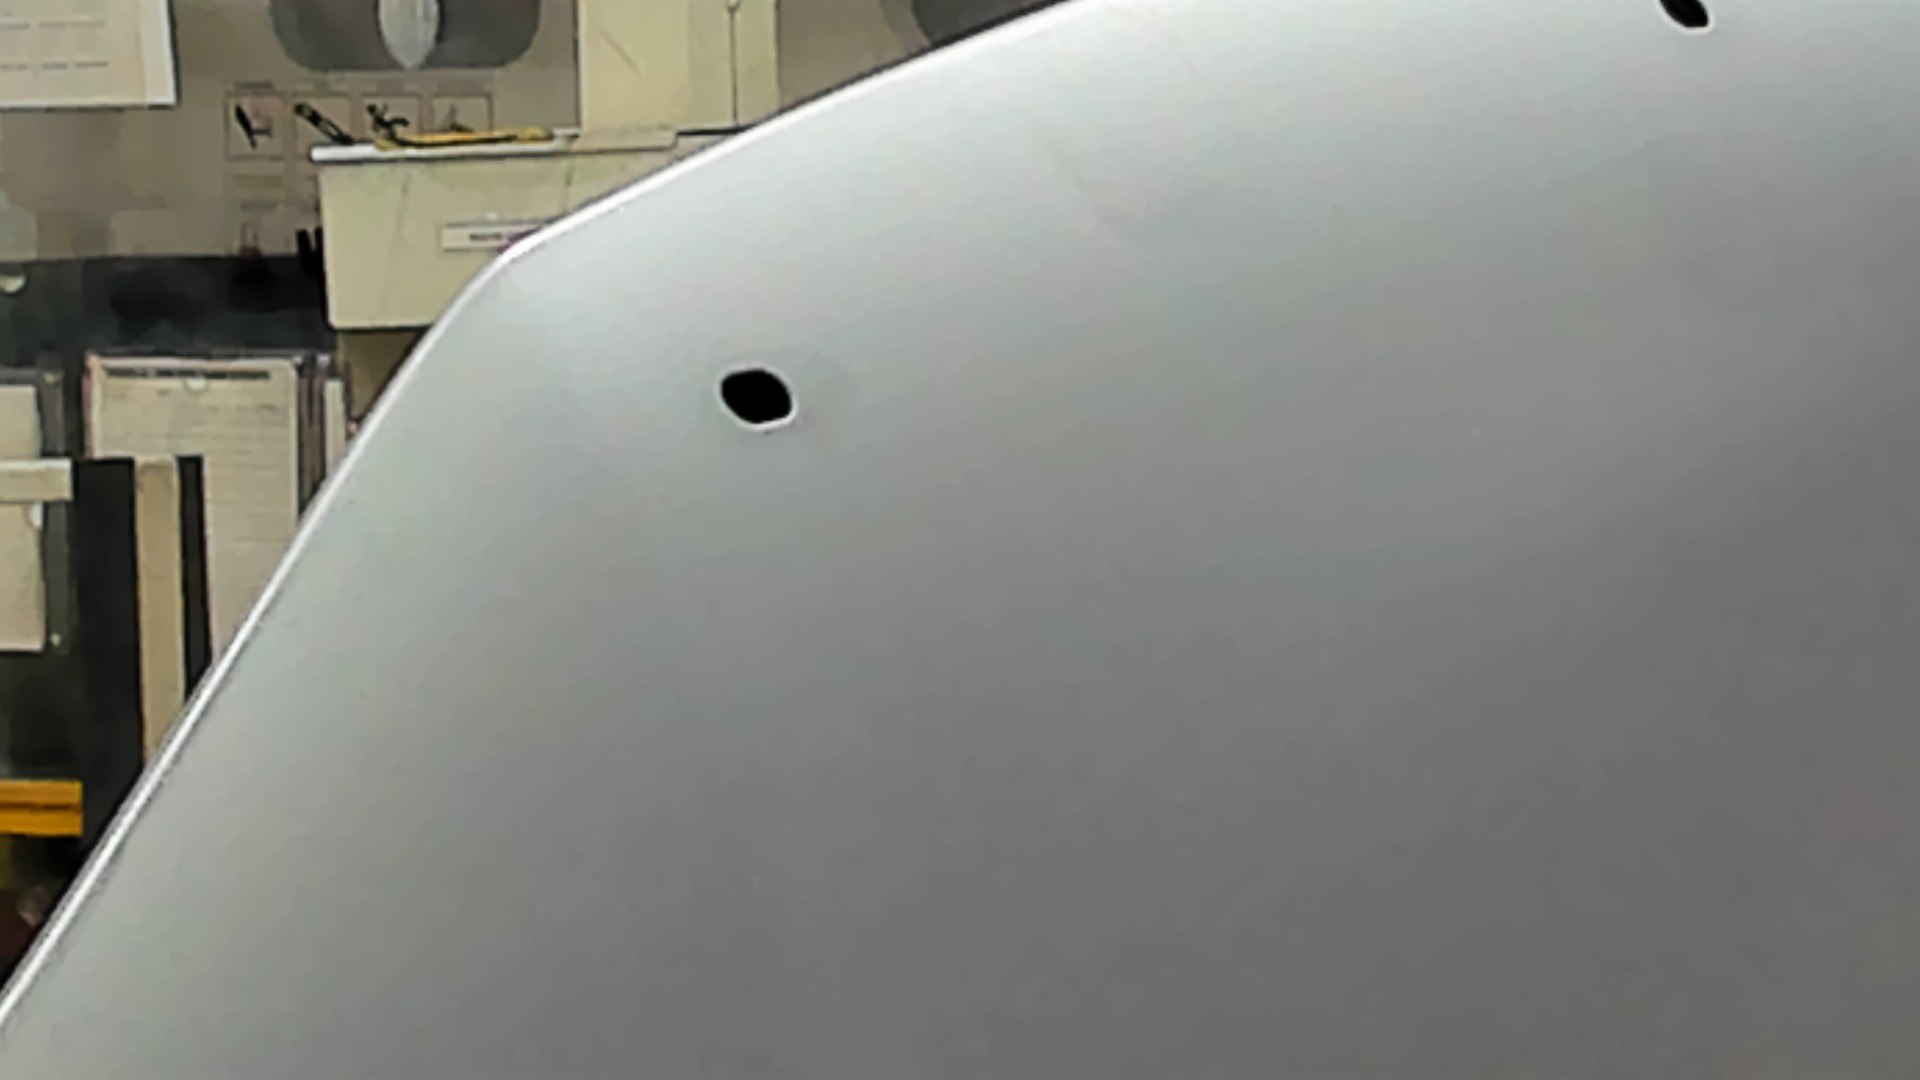Agujero: (716, 364, 802, 430), (1648, 1, 1716, 36)
